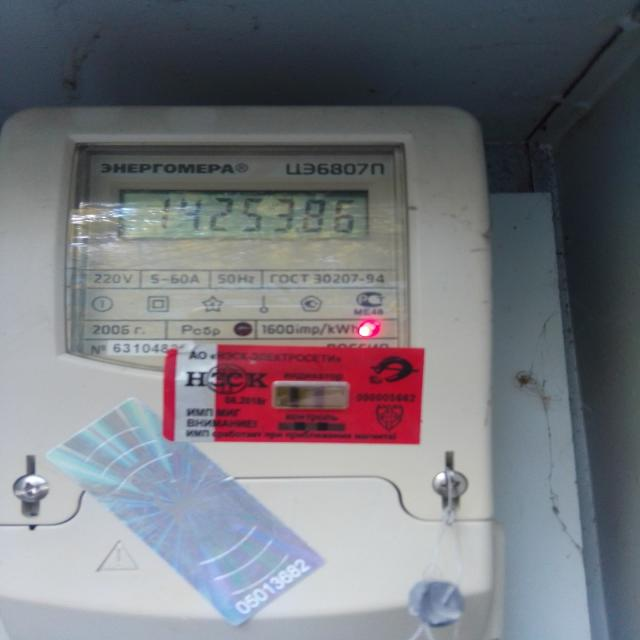Display: (115, 182, 376, 241)
meter_energomer: (0, 106, 493, 640)
seal_imp: (168, 342, 424, 446)
